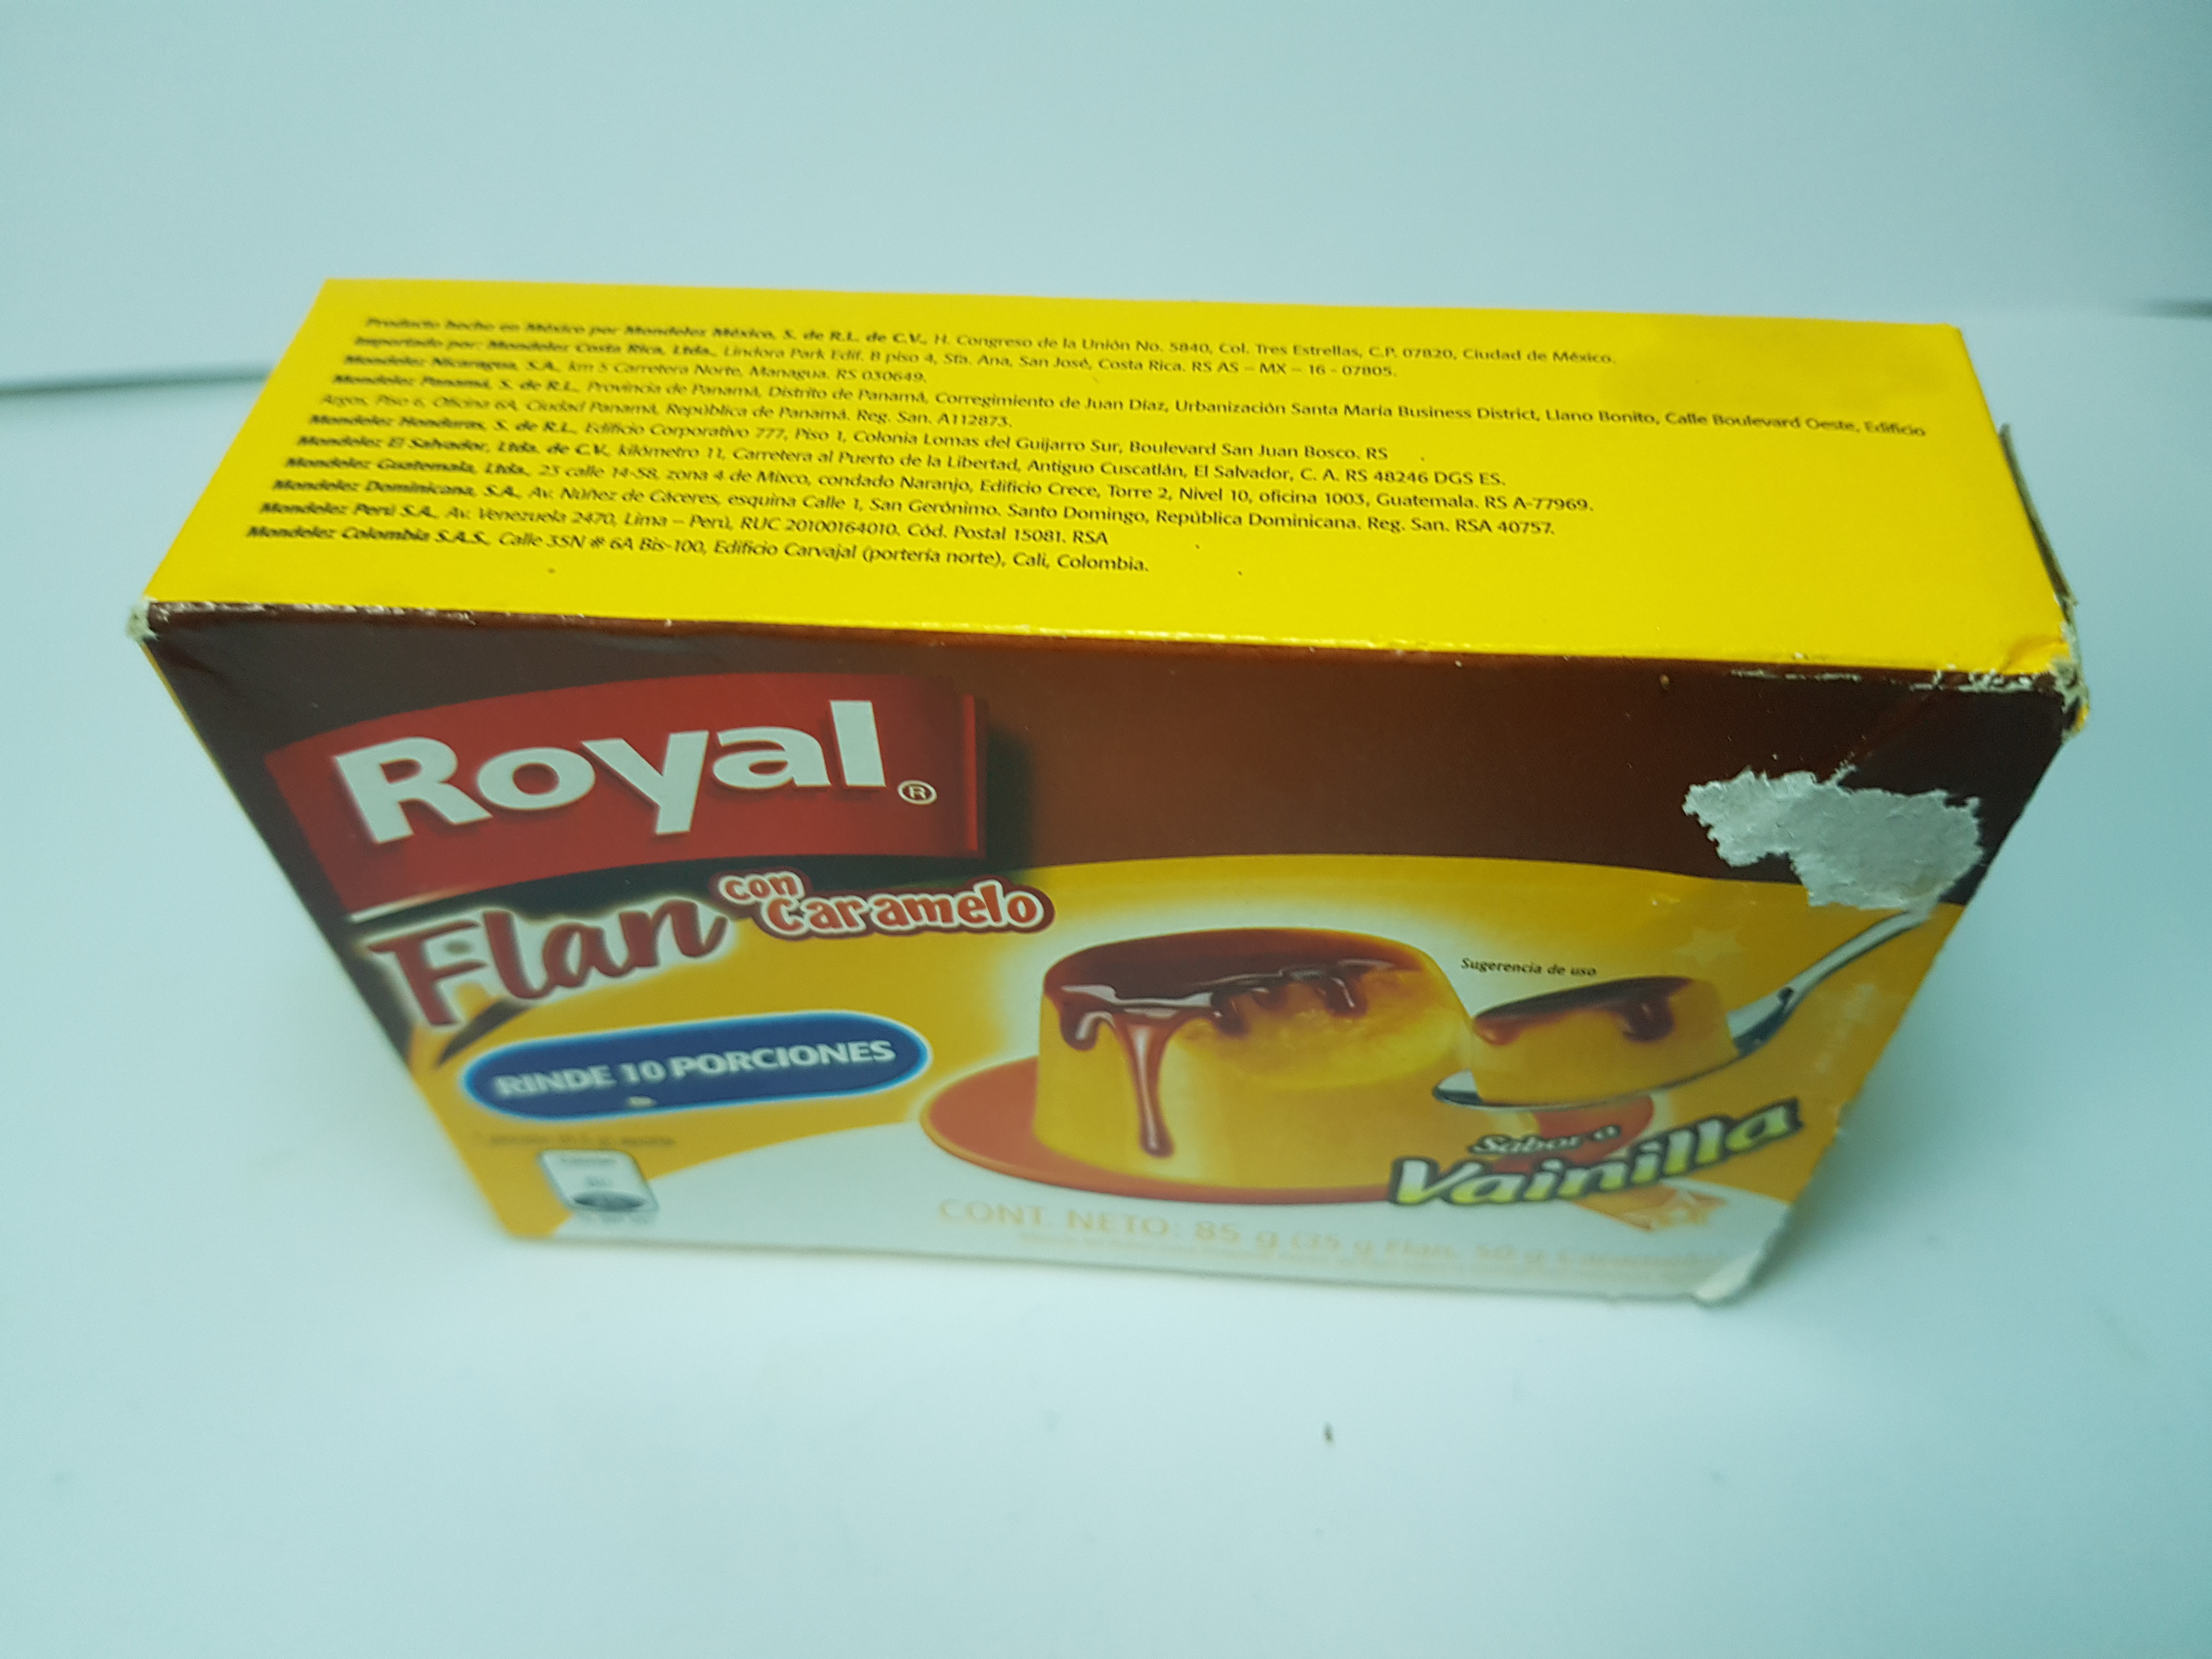flan: (106, 220, 2092, 1347)
